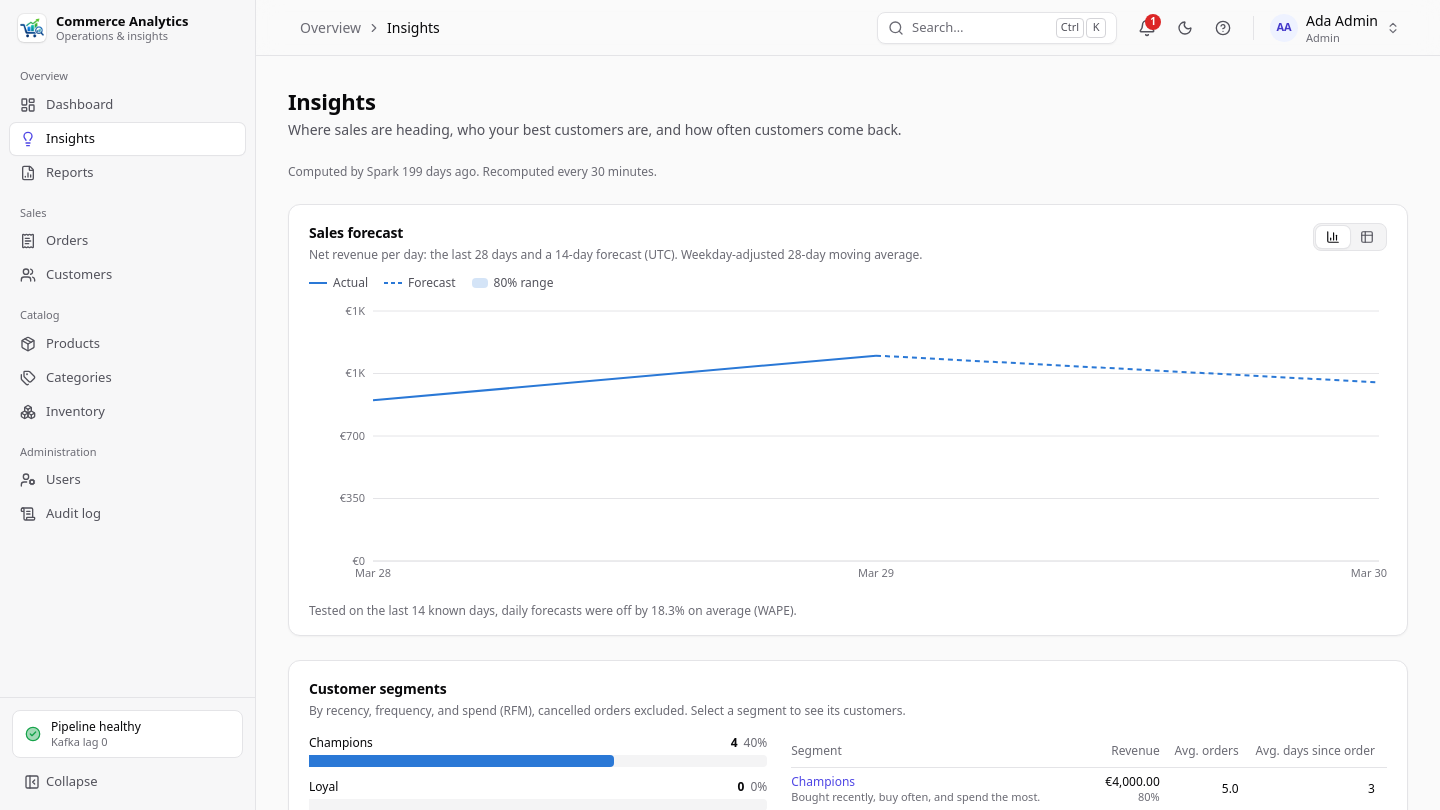
Scenario: insights page › shows the forecast with its accuracy, segments, and repeat purchases
This screenshot has width=1440, height=810.
Expected: the text "Computed by Spark 199 days ago. Recomputed every 30 minutes." is shown, left=288, top=162, right=657, bottom=180
Expected: the text "daily forecasts were off by 18.3% on average" is shown, left=309, top=602, right=797, bottom=618
Click the radio button named "Table" at (1367, 236), box left=1350, top=226, right=1384, bottom=248
(page scrolled)
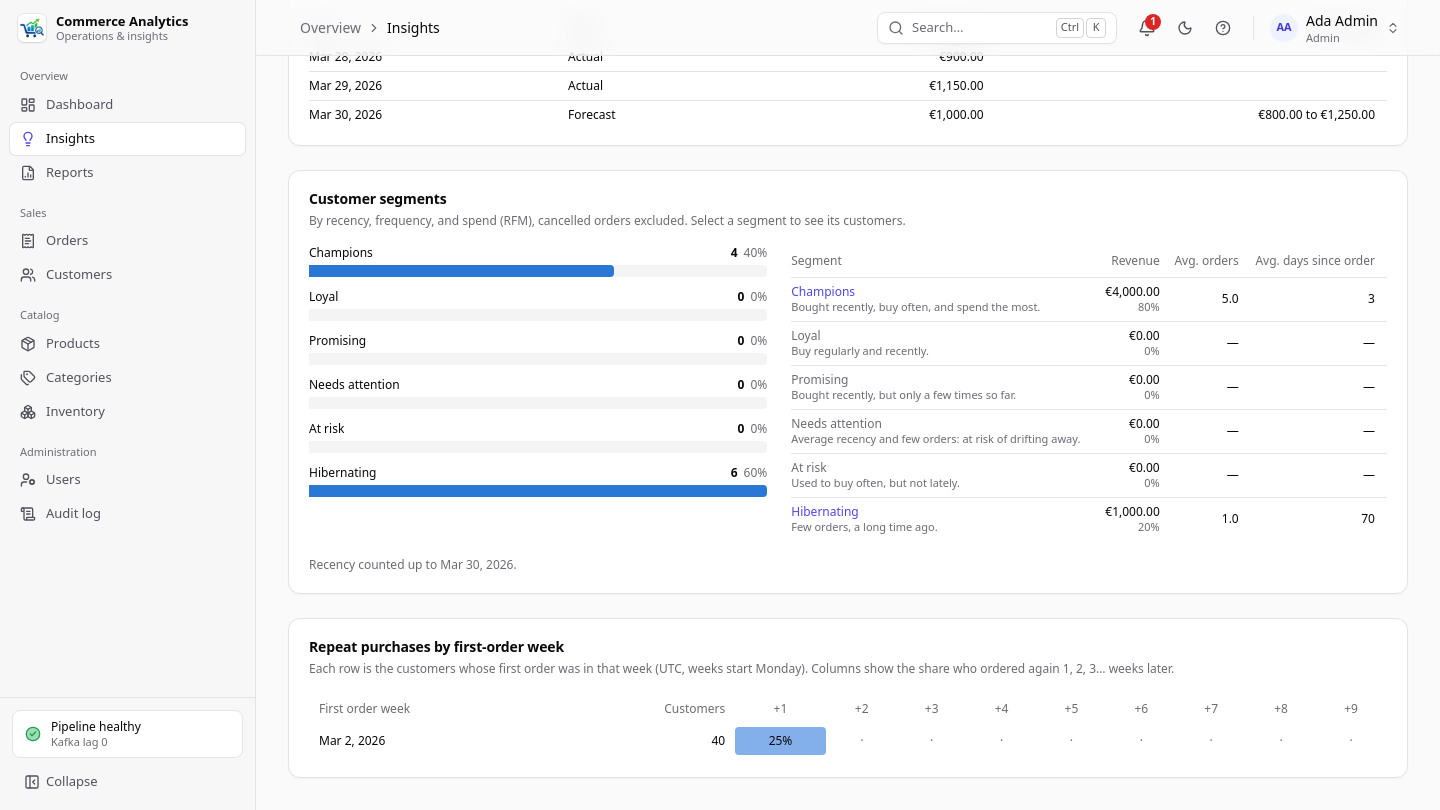
Expected: the list item "Champions 440%" is shown, left=309, top=244, right=767, bottom=276
Expected: the row "Mar 30, 2026 Forecast €1,000.00 €800.00 to €1,250.00" is shown, left=309, top=100, right=1387, bottom=128
